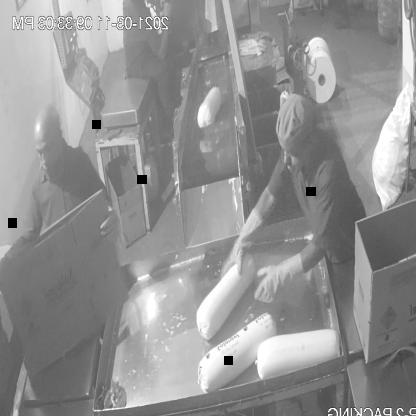glove: (220, 202, 267, 291), (255, 244, 308, 314)
no_glove: (152, 0, 177, 56)
